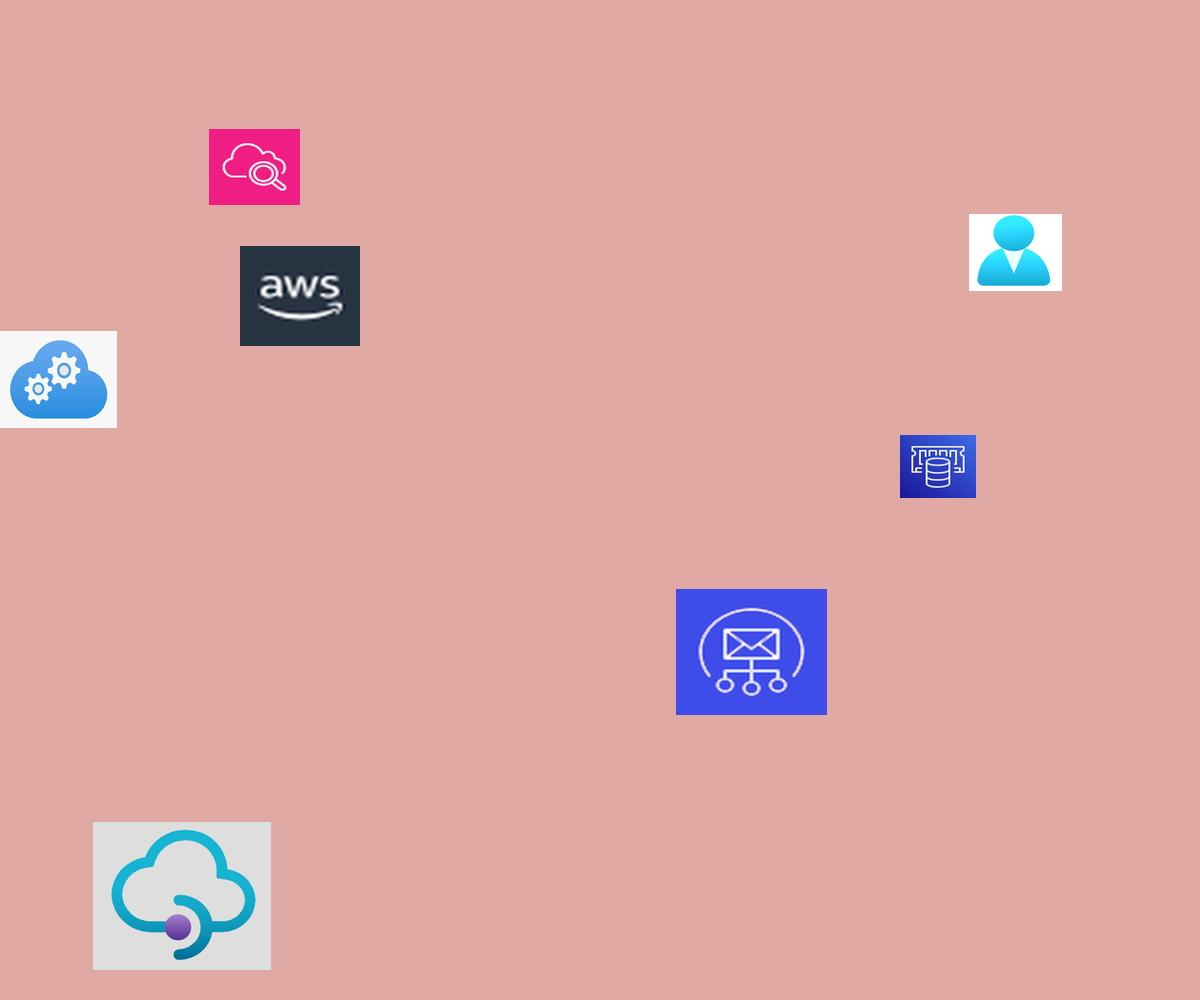AWS-Cloud-logo: (240, 246, 360, 346)
AWS-CloudWatch: (209, 129, 300, 205)
AWS-ElastiCache: (900, 435, 976, 498)
AWS-Simple-Email-Service: (676, 589, 827, 715)
Azure_api_gateway: (93, 822, 271, 970)
Azure_cloud_services: (0, 331, 117, 428)
Azure_users: (969, 214, 1062, 291)
